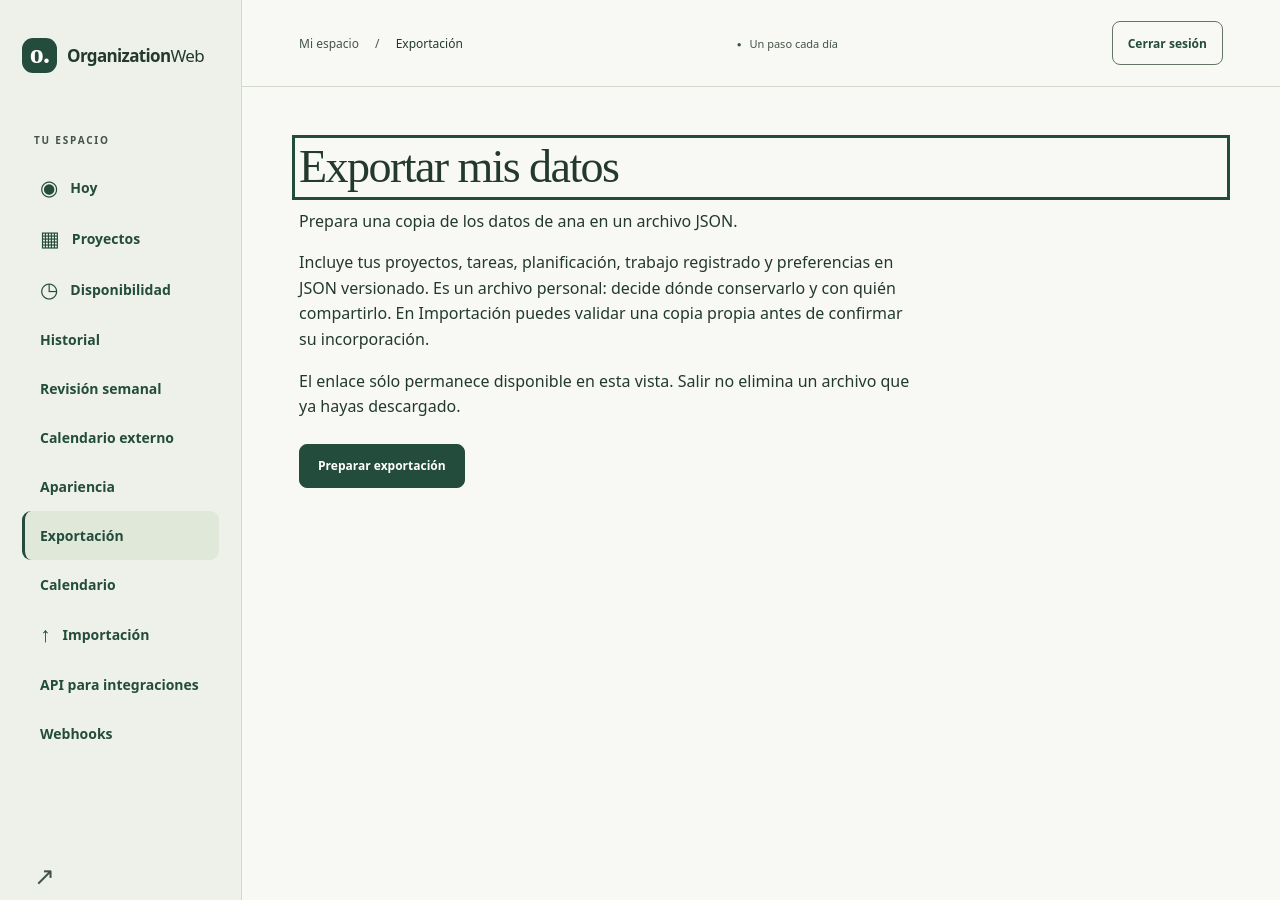
Test case: @s28 removes access through SessionGate for a current export 401
Click the button "Preparar exportación".
click(382, 466)  # box [299,444,465,488]
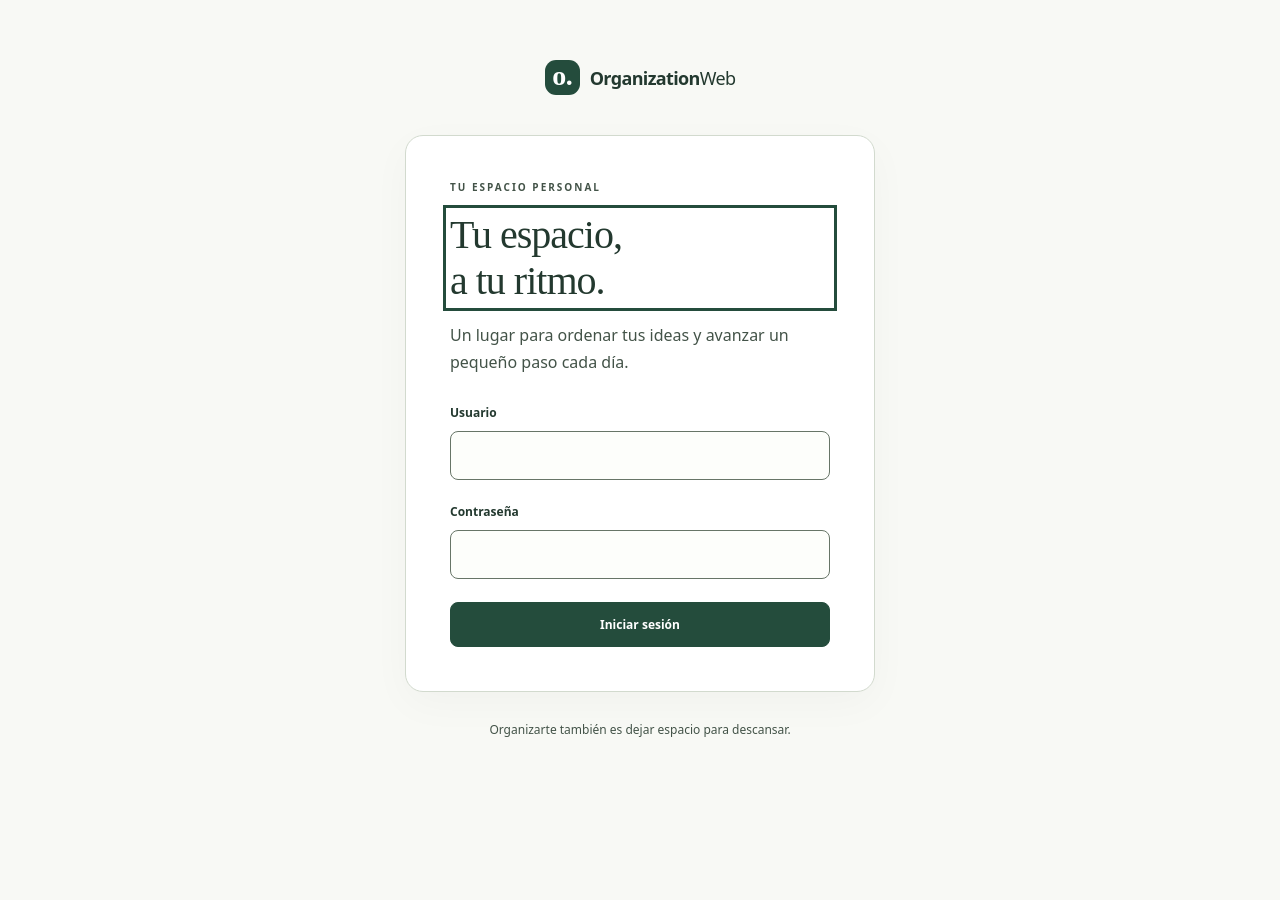
Now the field labelled "Usuario" is shown, box [450,431,830,480]
Now the heading "Exportar mis datos" is gone
